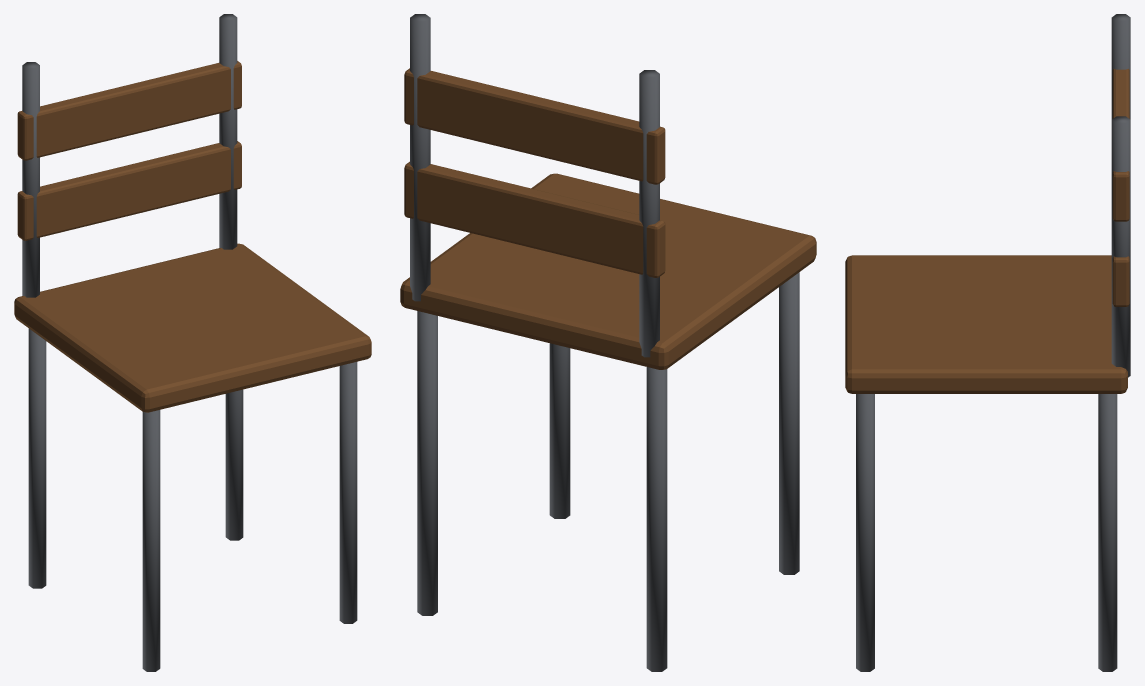
File: bistro_chair.glb
3 renders of one model, left to right at view 1: azimuth 30°, elevation 25°; view 2: azimuth 150°, elevation 25°; view 3: azimuth 270°, elevation 25°, orthographic. The views are drawn at different scales.
Parts seen in each view (by area): view 1: bistro_chair; view 2: bistro_chair; view 3: bistro_chair.
Part boxes in pixels (left/top/right/bottom): bistro_chair: left=14, top=14, right=371, bottom=671; bistro_chair: left=400, top=14, right=816, bottom=671; bistro_chair: left=845, top=14, right=1130, bottom=671.
Size of the model in its own units: 0.42 by 0.9 by 0.424.
Materials: 1 (1 with a texture image).
